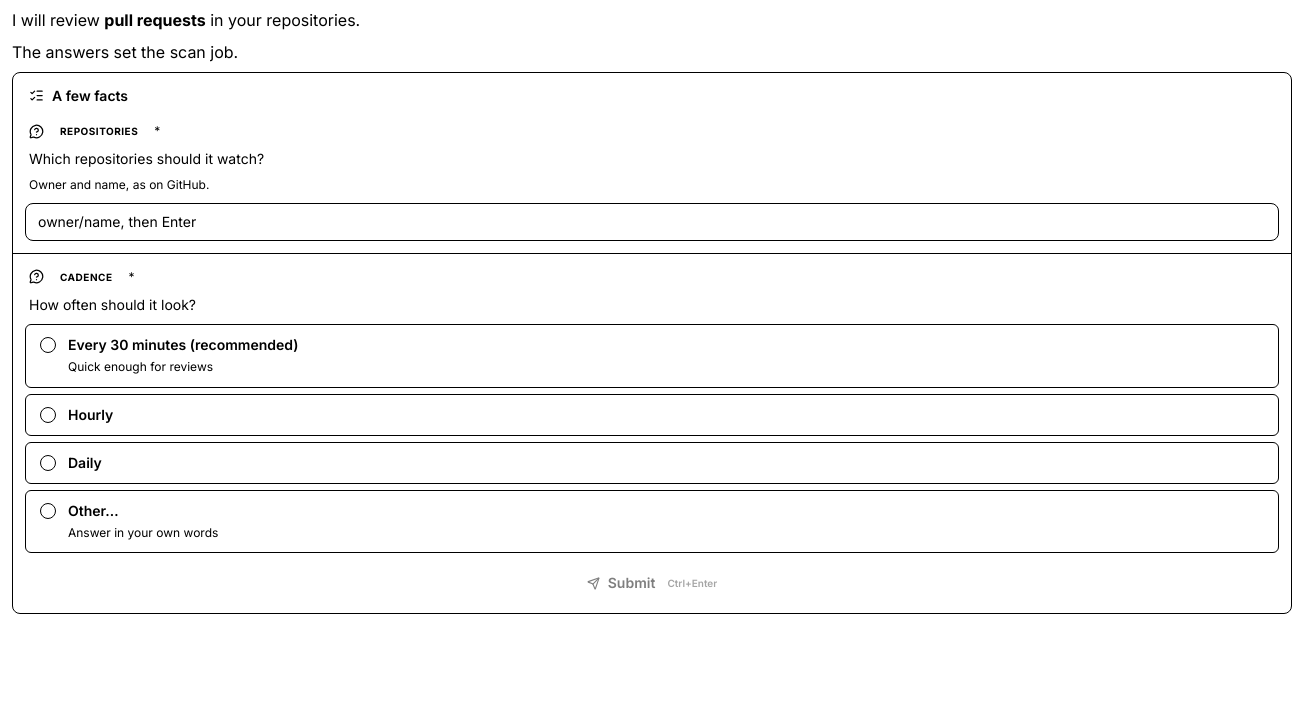
Test: ask_form: intro › keeps the intro when the form is answered here and folds
In the field labelled "Which repositories should it watch?": coordinates (652, 222) [34,210,1270,234], type "org/repo-a"
Then press Enter
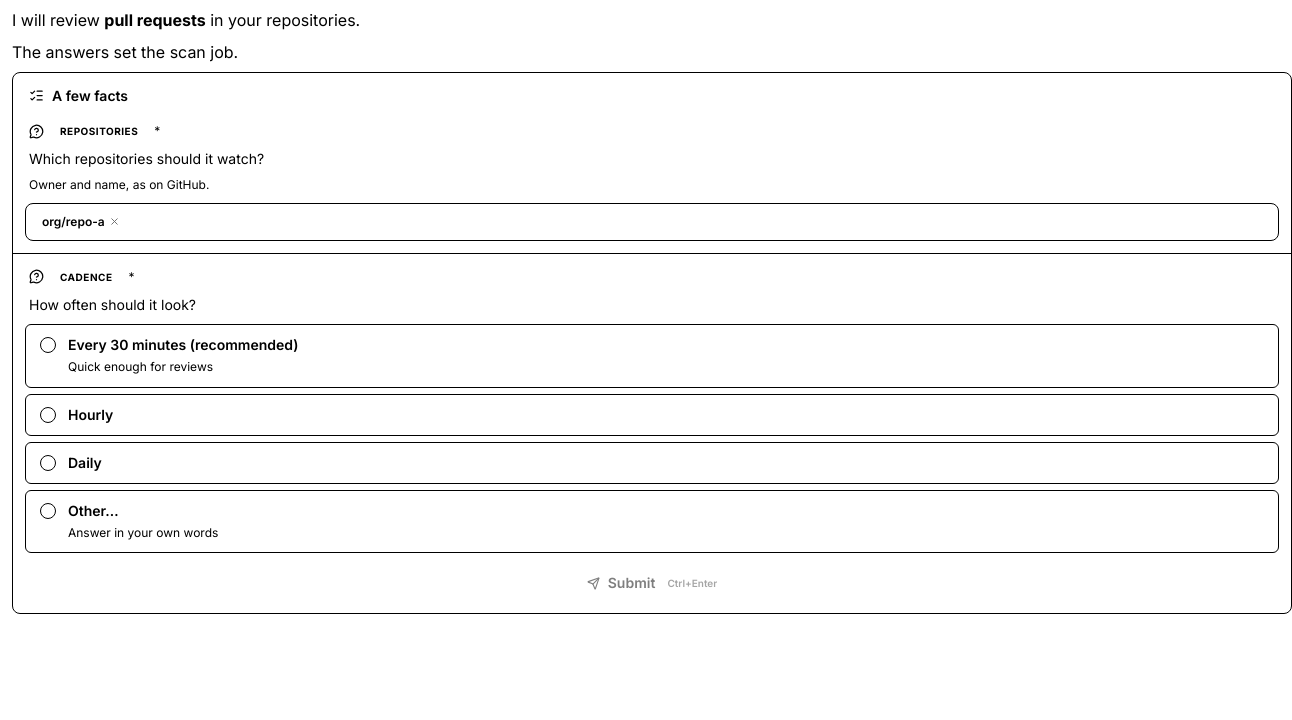
Click the button "Hourly": coordinates (91, 414) [25,394,1279,436]
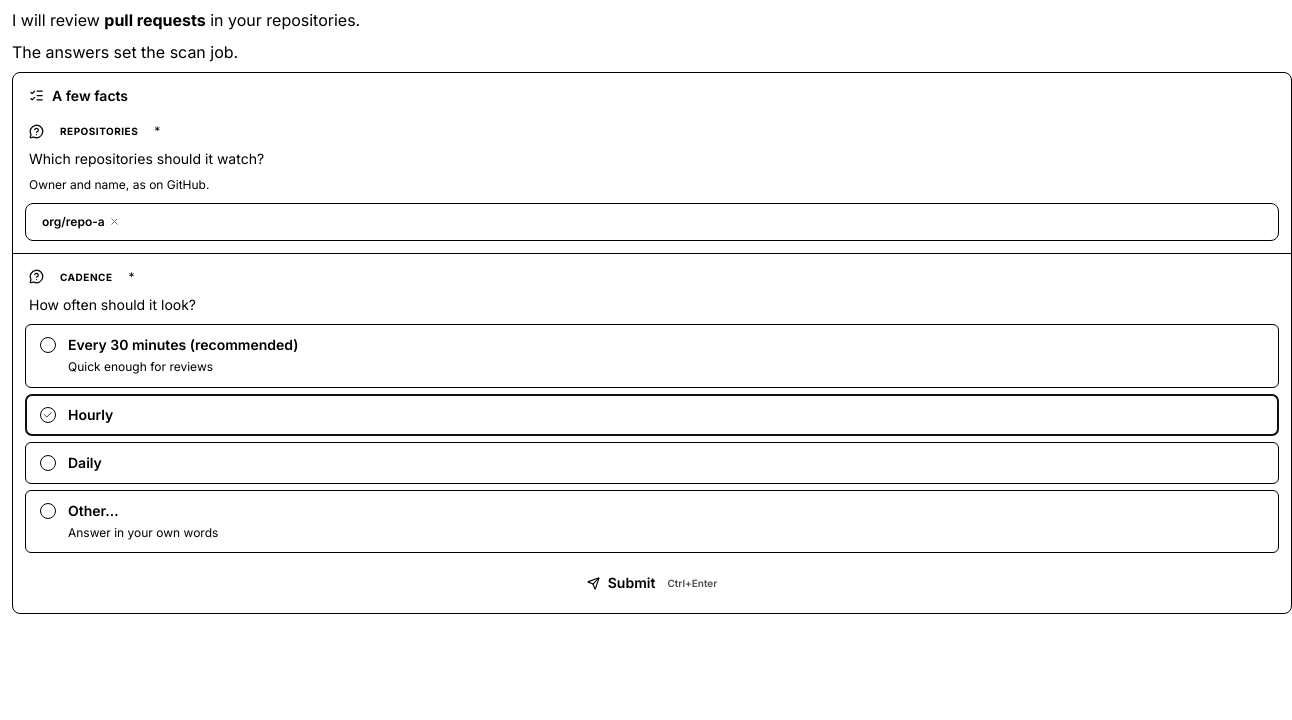
Click the button "Submit Ctrl+Enter": coordinates (652, 584) [25,566,1279,602]
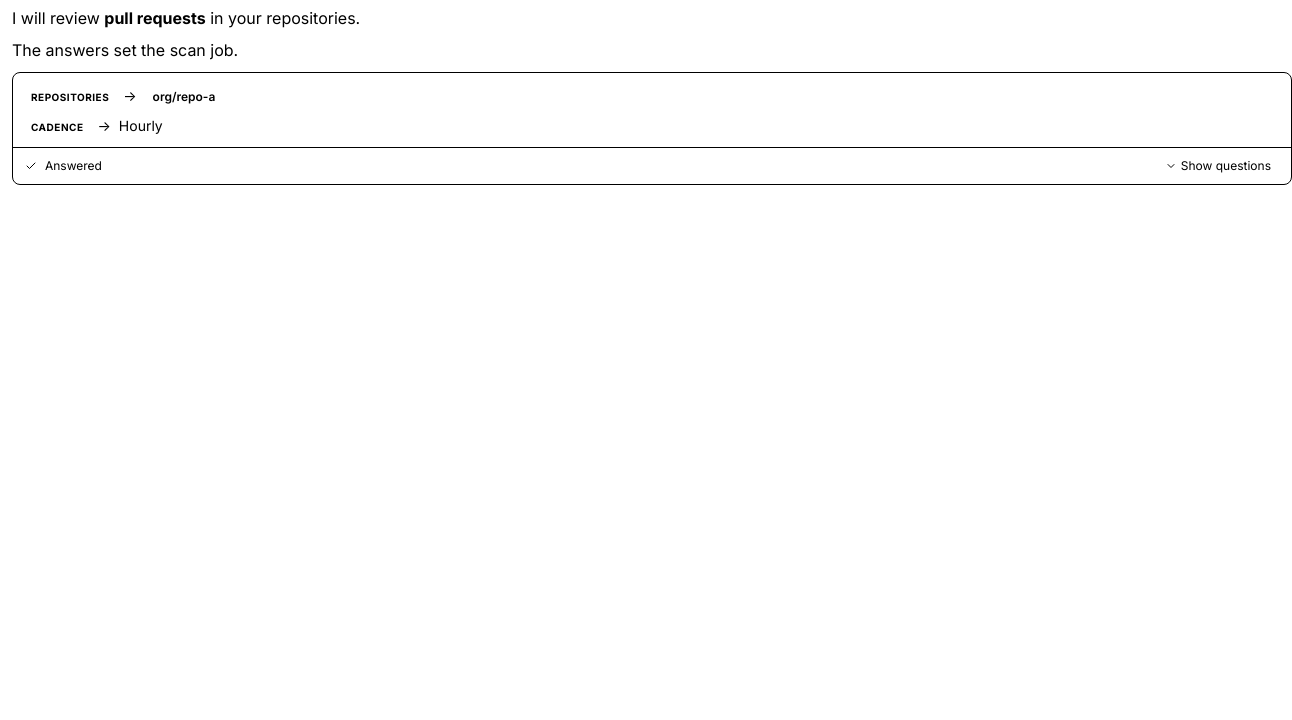
Expected: the element with test id "form-intro" shows "The answers set the scan job.", [12,40,238,60]
Result: the form is gone
